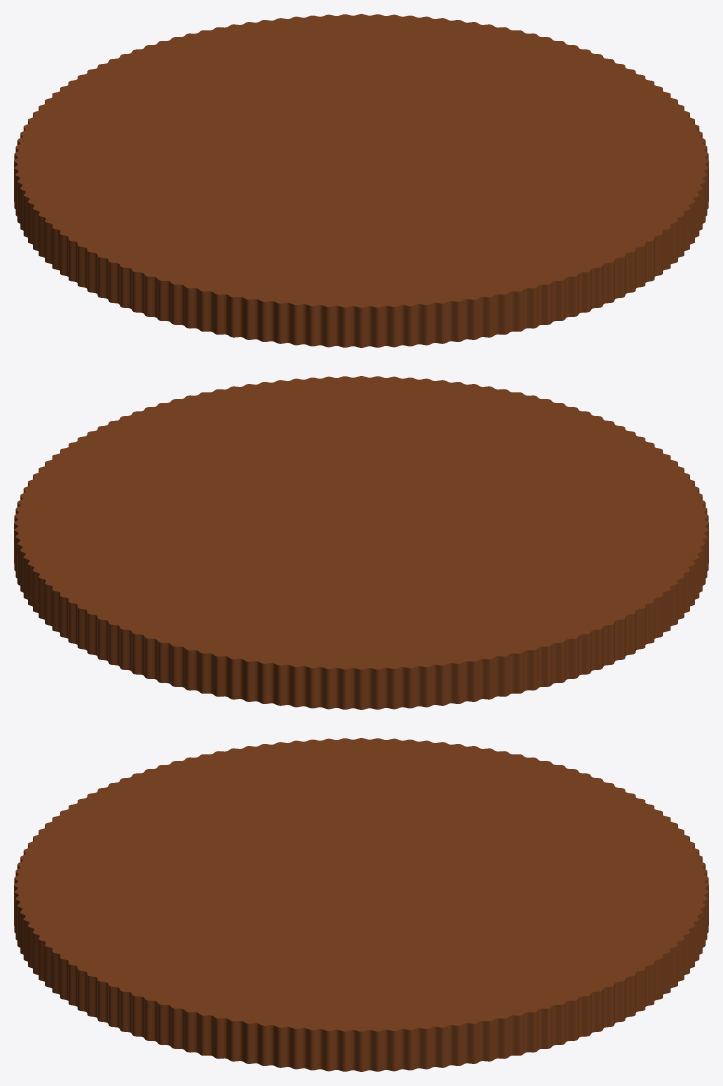
File: model_UNFINISHED.obj
3 renders of one model, top to bottom at view 1: azimuth 30°, elevation 25°; view 2: azimuth 150°, elevation 25°; view 3: azimuth 270°, elevation 25°, orthographic.
Parts seen in each view (by area): view 1: GIZA10_1951_REEDED; view 2: GIZA10_1951_REEDED; view 3: GIZA10_1951_REEDED.
Part boxes in pixels (x1,y1,x2,y2): GIZA10_1951_REEDED: (14, 14, 708, 347); GIZA10_1951_REEDED: (14, 376, 708, 709); GIZA10_1951_REEDED: (14, 738, 708, 1071).
Bounding box in the file's own units: 0.0235 × 0.0015 × 0.0235.
